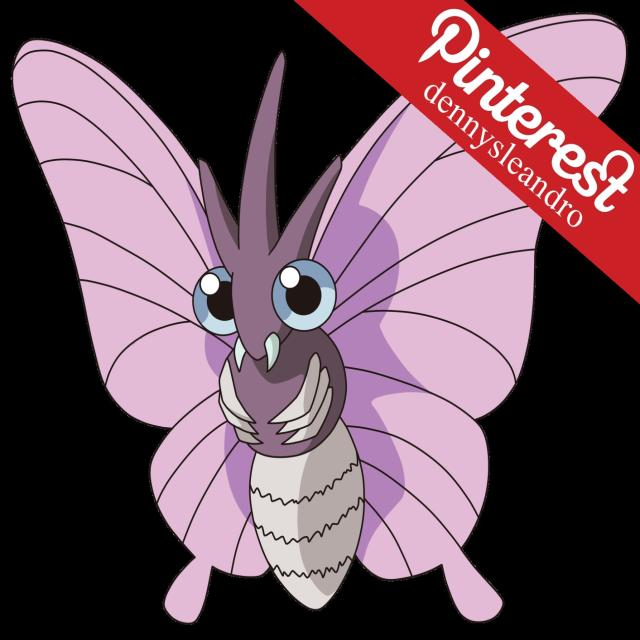Venomoth: (154, 137, 472, 625)
